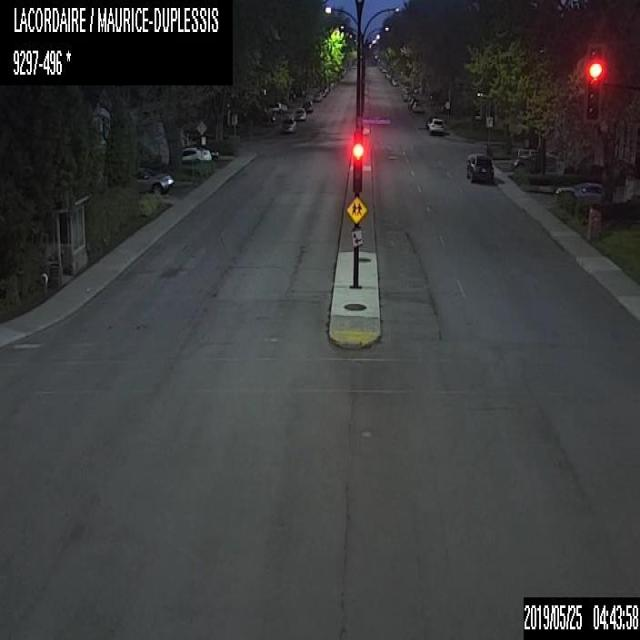pedestrian: (444, 97, 450, 115)
vehicle: (119, 167, 174, 190), (551, 181, 609, 202), (514, 151, 561, 170), (464, 152, 494, 181), (176, 148, 213, 162), (426, 114, 443, 134), (267, 101, 287, 113), (282, 114, 296, 131), (292, 106, 306, 119), (298, 99, 312, 111), (400, 85, 410, 100), (407, 94, 417, 108), (412, 99, 422, 112), (312, 92, 322, 101), (391, 76, 399, 85), (321, 84, 329, 92), (318, 88, 326, 96)
